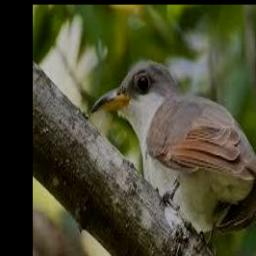Cuckoo: (90, 59, 256, 247)
